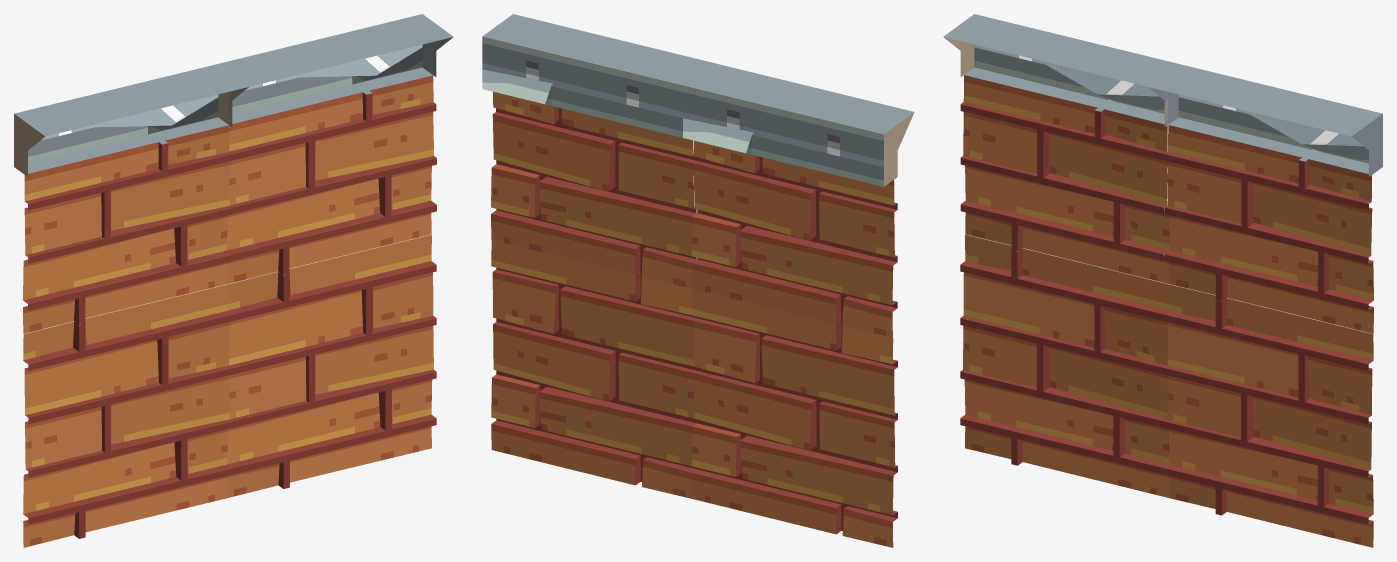
File: TopKayu.fbx
3 renders of one model, left to right at view 1: azimuth 30°, elevation 25°; view 2: azimuth 150°, elevation 25°; view 3: azimuth 330°, elevation 25°, orthographic.
Visible parts, largest first — view 1: TopKayu; view 2: TopKayu; view 3: TopKayu.
Part boxes in pixels (left/top/right/bottom): TopKayu: left=14, top=14, right=453, bottom=547; TopKayu: left=482, top=14, right=914, bottom=547; TopKayu: left=943, top=14, right=1382, bottom=547.
Bounding box in the file's own units: 12.59 × 94.81 × 94.83.
